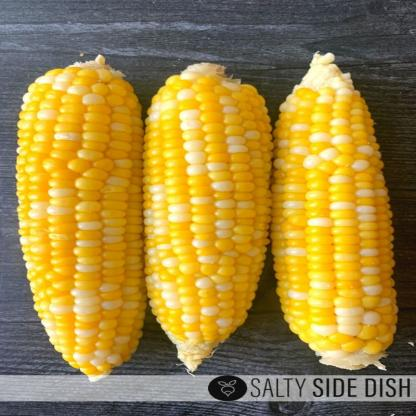---: (256, 63, 416, 371), (4, 55, 143, 368), (143, 67, 278, 368)
